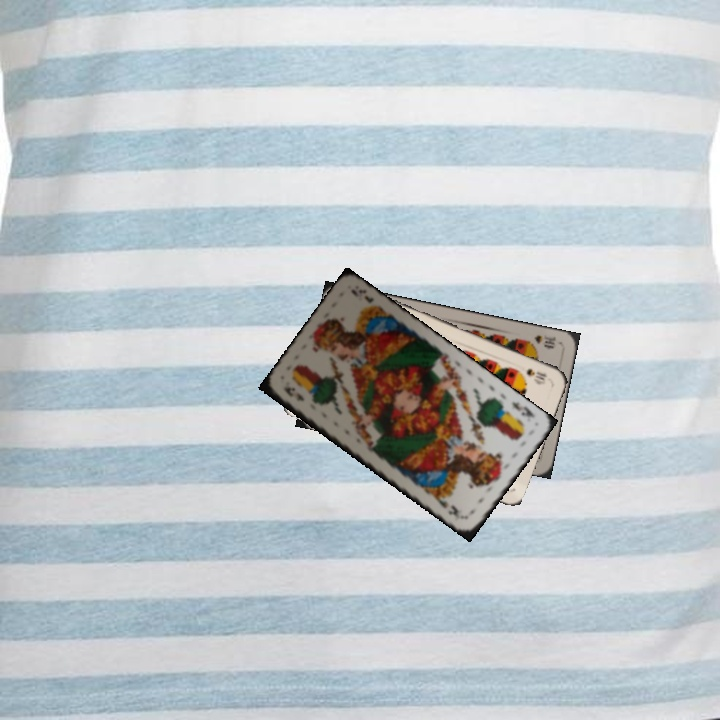EK: (508, 398, 537, 421), (280, 383, 307, 404)
S10: (530, 331, 558, 351), (522, 364, 549, 383)
